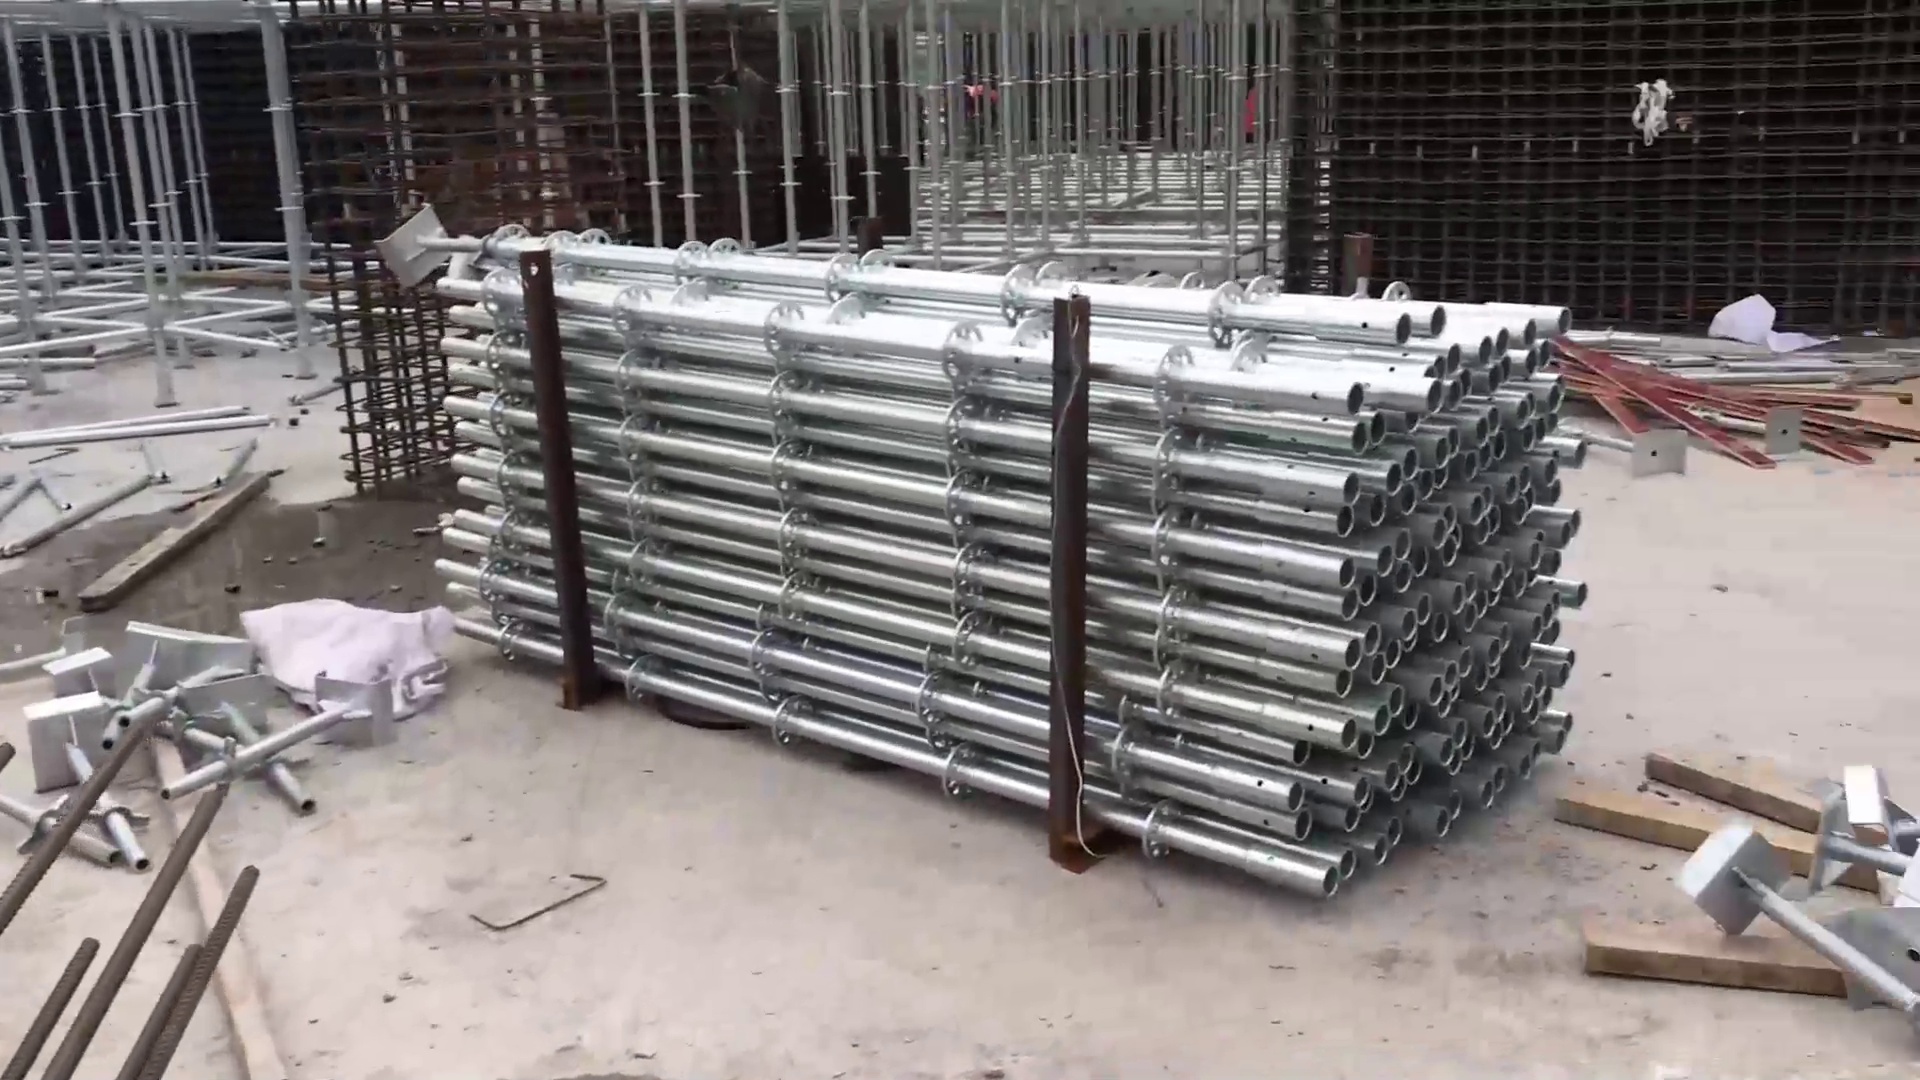scaffold: (415, 227, 1594, 895)
